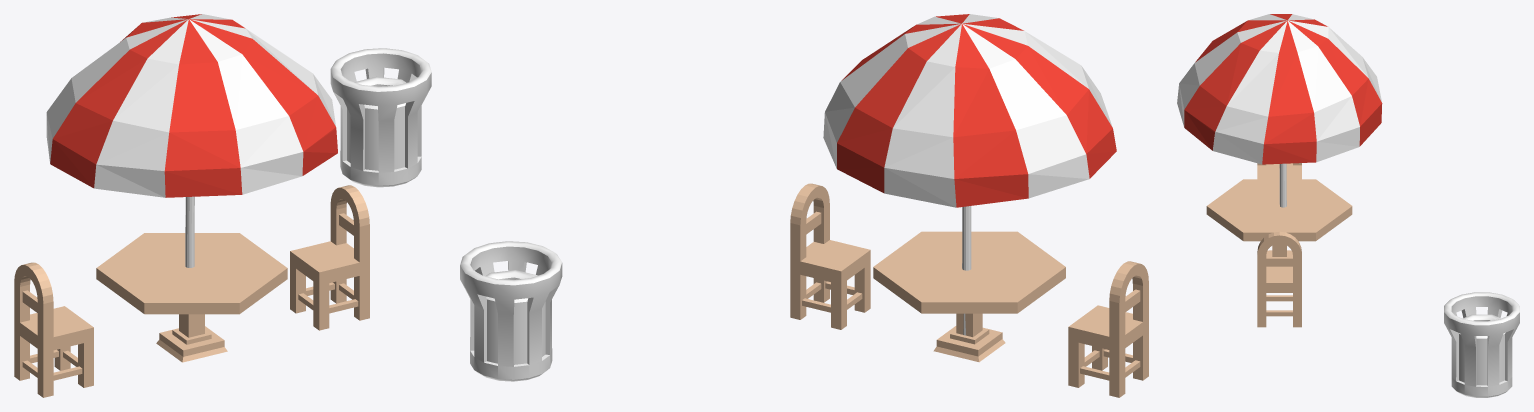
The model's file is combo-shaded-dining.glb.
3 renders of one model, left to right at view 1: azimuth 30°, elevation 25°; view 2: azimuth 150°, elevation 25°; view 3: azimuth 270°, elevation 25°, orthographic. The views are drawn at different scales.
Visible parts, largest first — view 1: 00_asset-073, 01_asset-003, 04_asset-074, 03_asset-025, 02_asset-025; view 2: 00_asset-073, 01_asset-003, 04_asset-074, 03_asset-025, 02_asset-025; view 3: 00_asset-073, 01_asset-003, 04_asset-074, 03_asset-025, 02_asset-025.
Part boxes in pixels (box(x1,y1,x2,y2)): 00_asset-073: box(46, 14, 337, 267); 01_asset-003: box(96, 233, 287, 362); 04_asset-074: box(330, 48, 431, 187); 03_asset-025: box(290, 185, 369, 330); 02_asset-025: box(14, 262, 93, 397); 00_asset-073: box(823, 14, 1116, 335); 01_asset-003: box(873, 231, 1065, 362); 04_asset-074: box(460, 241, 562, 381); 03_asset-025: box(790, 183, 870, 329); 02_asset-025: box(1068, 261, 1148, 397); 00_asset-073: box(1177, 14, 1382, 207); 01_asset-003: box(1206, 179, 1352, 256); 04_asset-074: box(1444, 292, 1519, 397); 03_asset-025: box(1257, 231, 1301, 327); 02_asset-025: box(1257, 163, 1301, 179).
Bounding box in the file's own units: 4.59 × 2.69 × 3.39.
